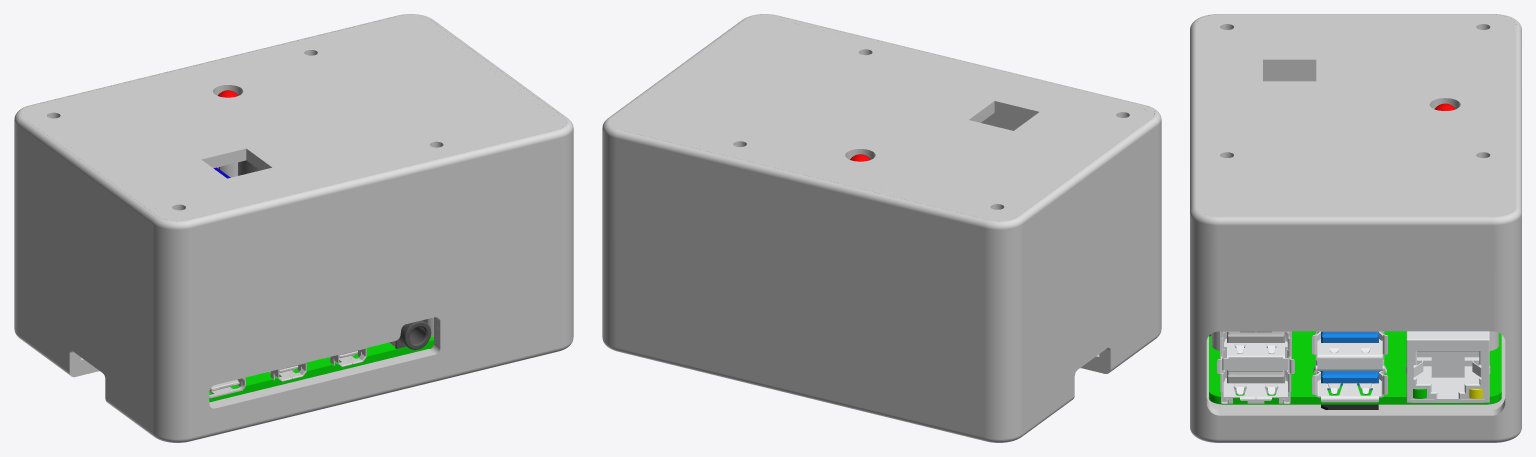
Rendered from guardit.glb.
3 renders of one model, left to right at view 1: azimuth 30°, elevation 25°; view 2: azimuth 150°, elevation 25°; view 3: azimuth 270°, elevation 25°, orthographic. The views are drawn at different scales.
Parts seen in each view (by area): view 1: Part 1 (×2), PCB, RPi4ModelB, Female Micro HDMI Connector, RPi4ModelB_1, Microphone Plug, RPi4ModelB; view 2: Part 1 (×2); view 3: Part 1 (×2), Gigabit Ethernet Port, RPi4ModelB, PCB, RPi4ModelB, 2X USB2.0 PORTS, RPi4ModelB, 2X USB3.0 PORTS, RPi4ModelB, Micro SD Card.
Boxes of the visible parts, x1,y1,x2,y2 form: Part 1 (×2): [14, 14, 573, 442]; PCB, RPi4ModelB: [209, 337, 433, 402]; Female Micro HDMI Connector, RPi4ModelB_1: [265, 348, 366, 381]; Microphone Plug, RPi4ModelB: [395, 319, 431, 349]; Part 1 (×2): [602, 14, 1161, 442]; Part 1 (×2): [1190, 14, 1521, 442]; Gigabit Ethernet Port, RPi4ModelB: [1405, 331, 1490, 403]; PCB, RPi4ModelB: [1209, 331, 1501, 404]; 2X USB2.0 PORTS, RPi4ModelB: [1217, 331, 1294, 403]; 2X USB3.0 PORTS, RPi4ModelB: [1312, 331, 1387, 402]; Micro SD Card: [1321, 404, 1378, 409].
Size of the model in its own units: 0.094 by 0.0476 by 0.0635.
